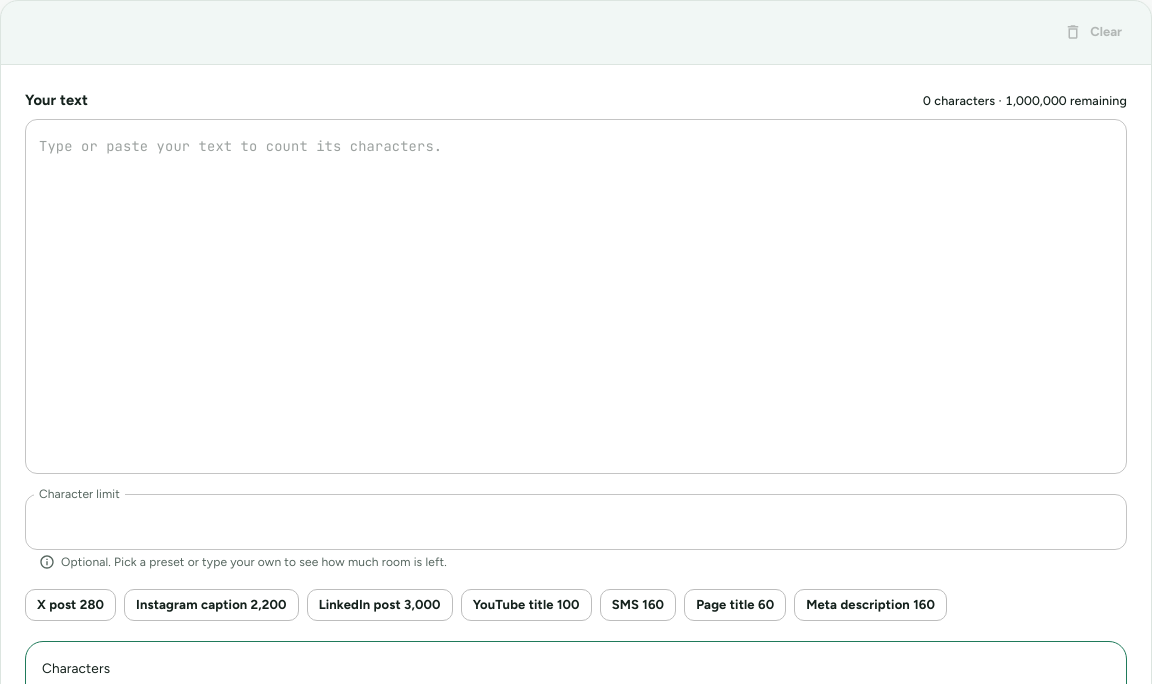
Test: CharacterCounterTool › offers presets for common platforms and accepts a limit typed in
This screenshot has width=1152, height=684.
Check: the button "LinkedIn post 3,000" is shown, box [307,589,453,621]
Check: the button "Instagram caption 2,200" is shown, box [124,589,299,621]
Type "hello" into the text box labelled "Your text".
click(576, 296); type("hello")  # box [39,135,1113,457]
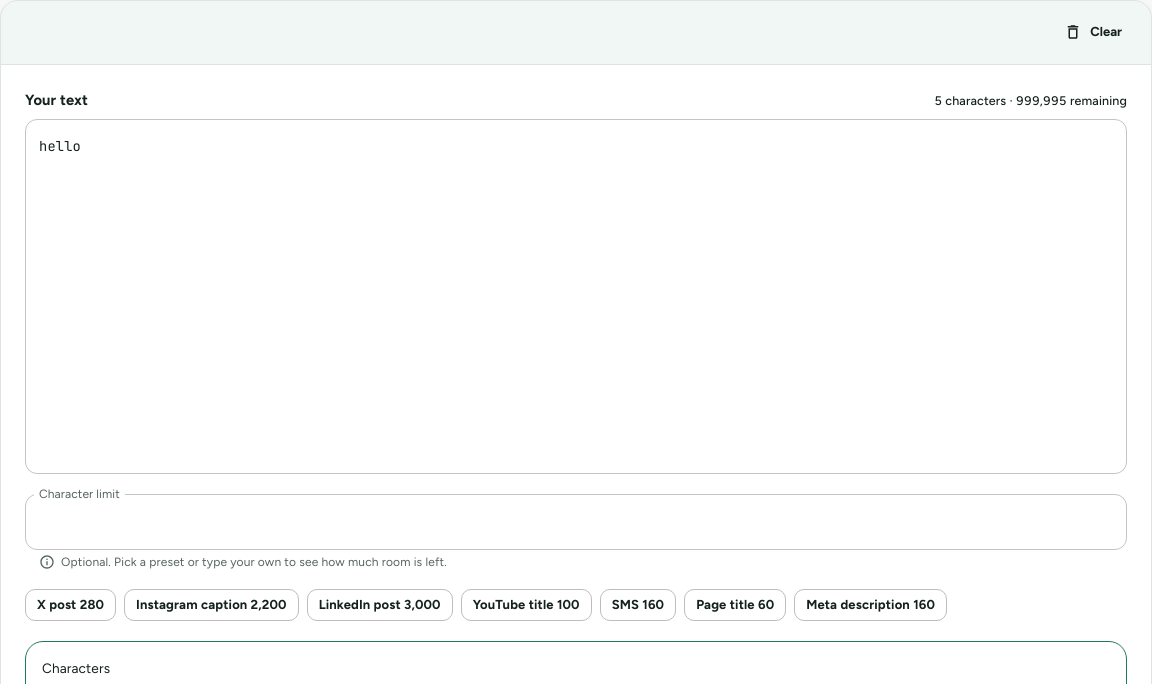
Type "6" into the number field labelled "Character limit".
click(576, 522); type("6")  # box [25,494,1127,550]
(page scrolled)
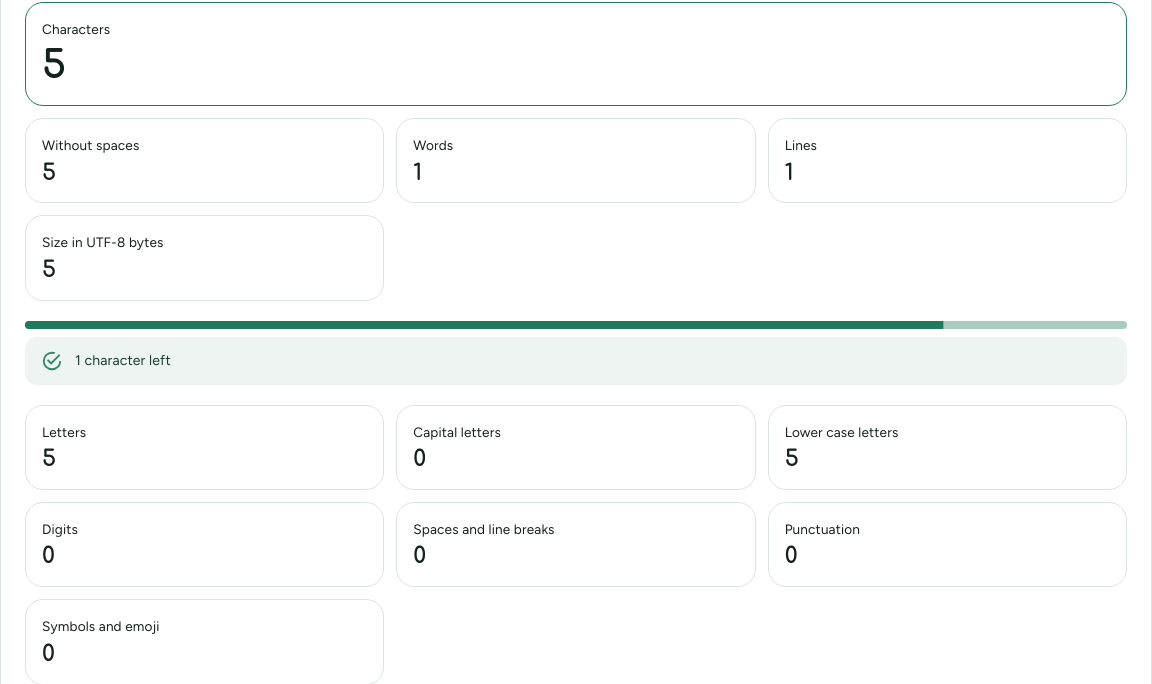
Check: the text "1 character left" is shown, box [75,352,171,369]
